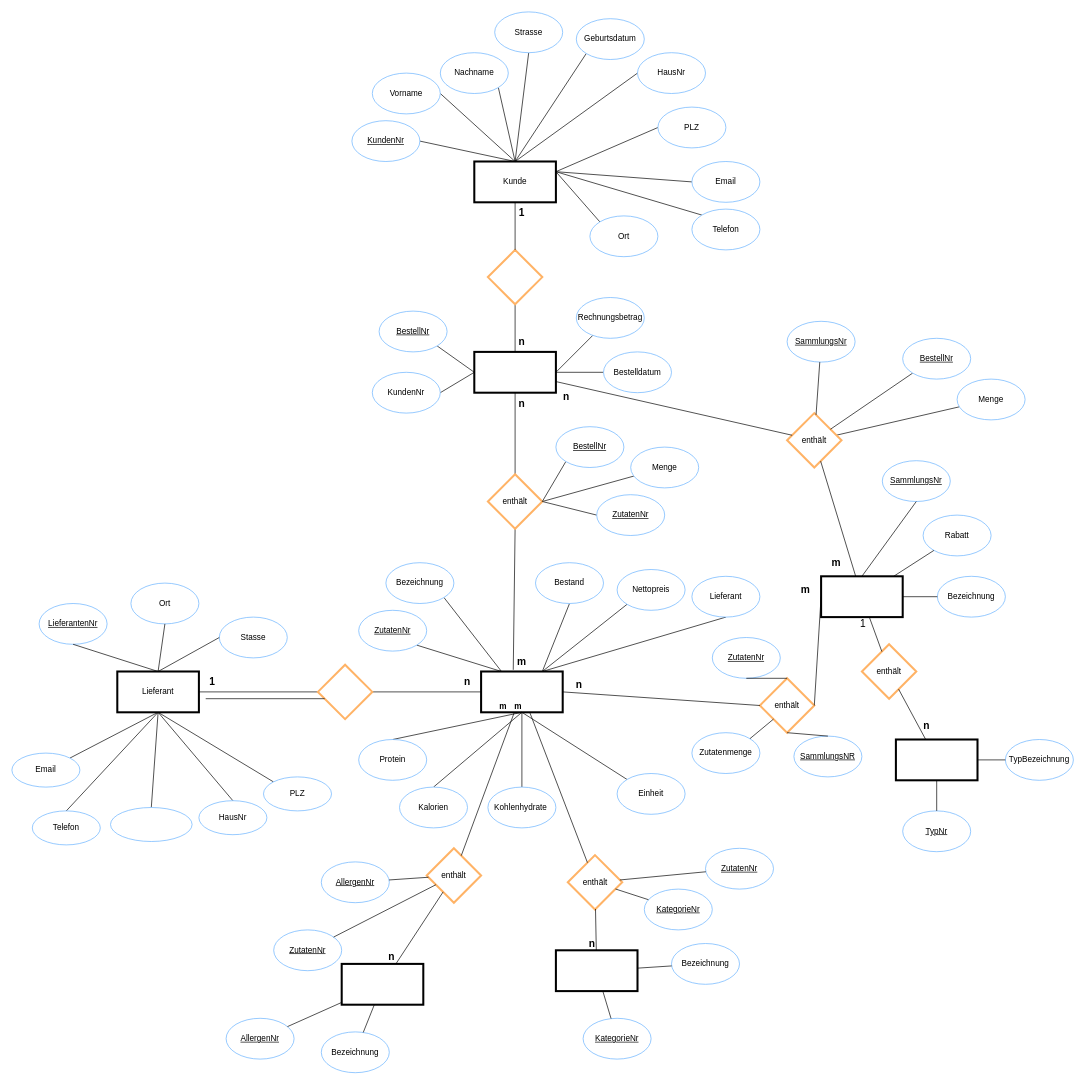
This 1085x1085 diagram has some shape labels left out. Here are the shapes that lost their labels. From the top down, the centre of each, then its label:
(515,277): tätigt
(515,372): Bestellung
(861,596): Sammlung
(345,691): liefert
(521,691): Zutat
(936,759): Sammlungstyp
(151,824): Lieferantenname
(382,984): Allergene
(596,970): Ernährungskategorie
